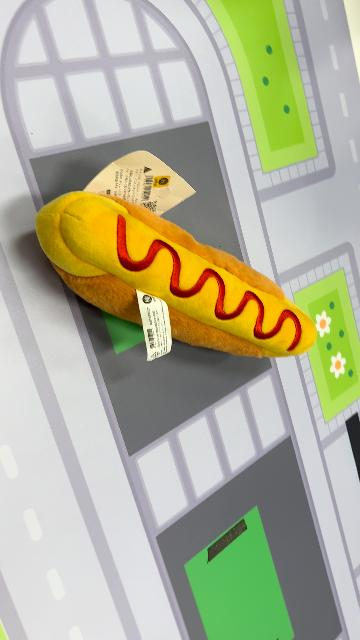hotdog: (35, 190, 319, 360)
